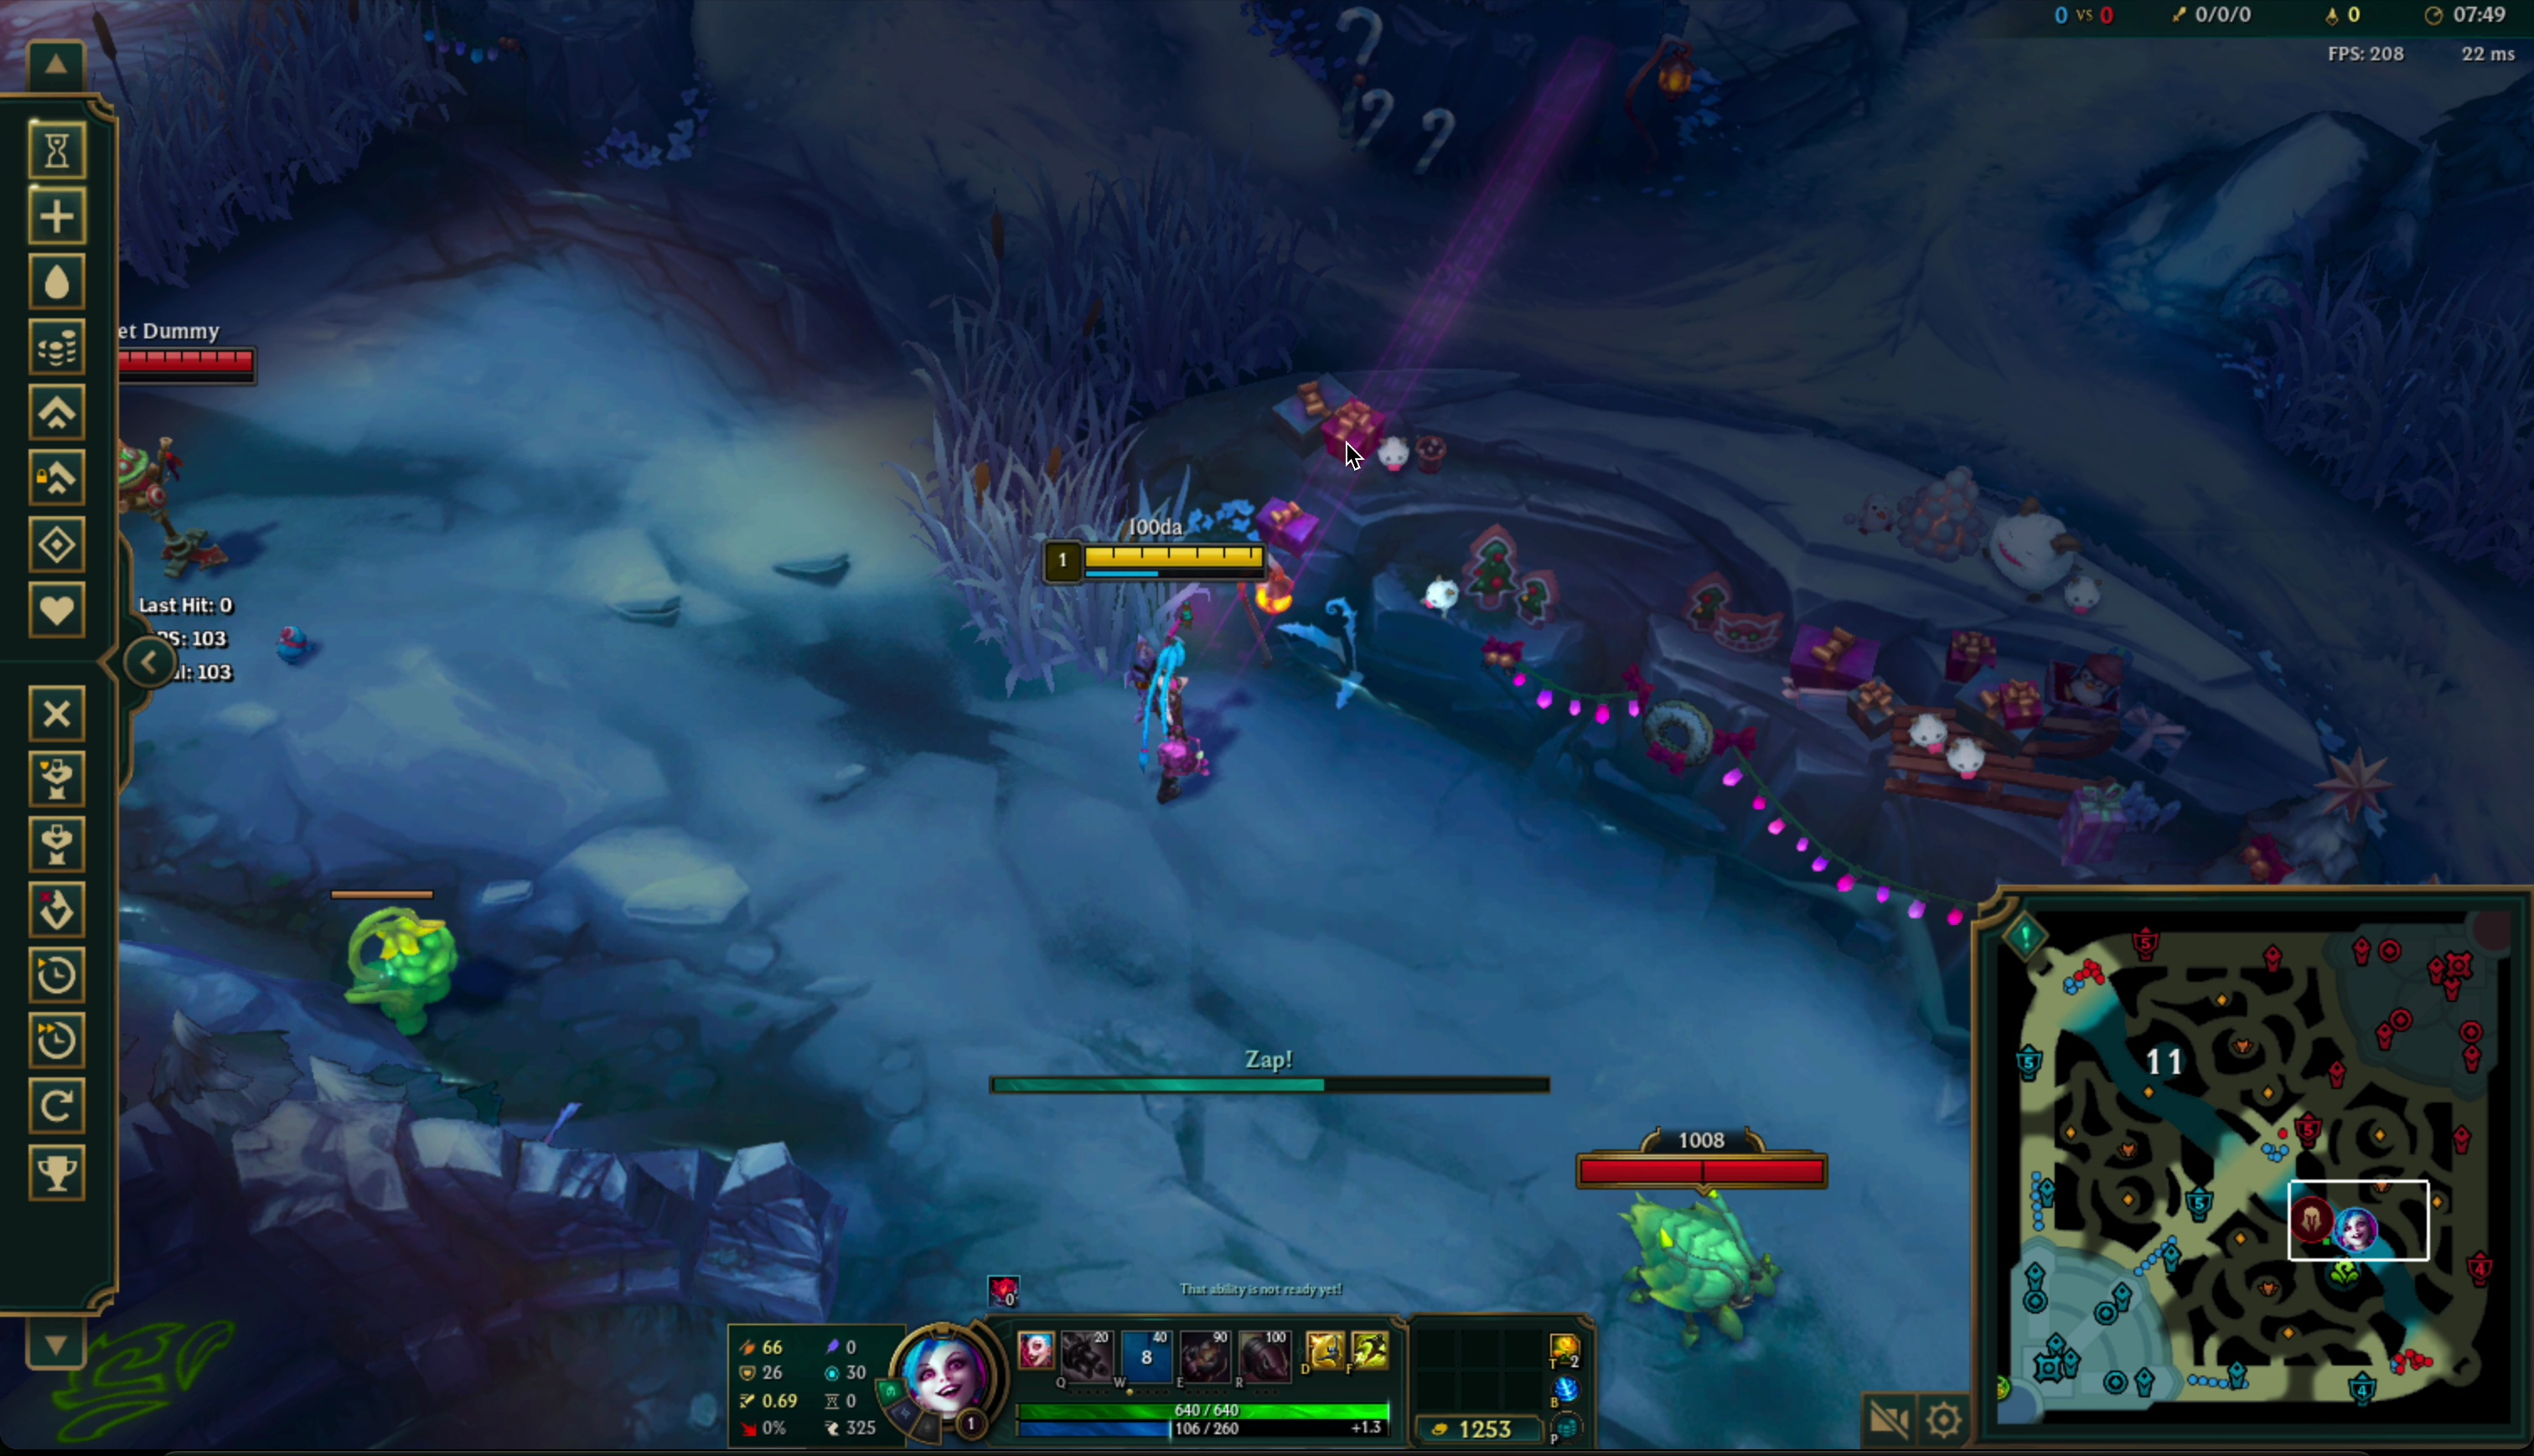JINX_W_PROJECTILE: (1020, 16, 1632, 870)
